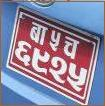2: (50, 55, 67, 84)
5: (66, 61, 86, 93), (48, 28, 62, 52)
6: (13, 39, 32, 68)
9: (31, 47, 51, 76)
ba: (29, 21, 48, 46)
cha: (63, 34, 81, 61)
